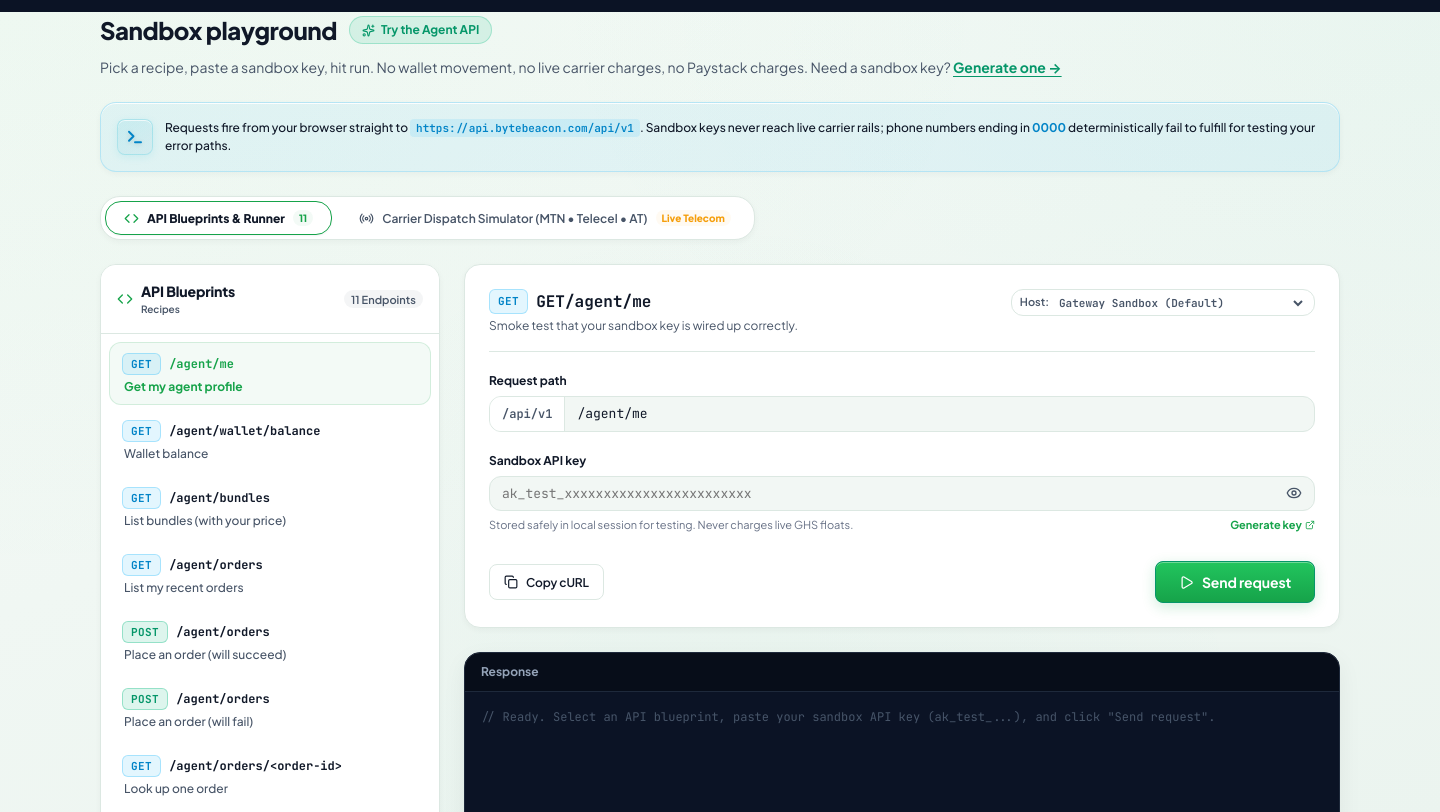
Scenario: AgentSandboxPage — Sandbox Playground Spec & Interactive Runner › 6. toggles sandbox API key visibility when eye button is clicked
Click the button titled "Show key": (1294,493) [1282,481,1306,505]
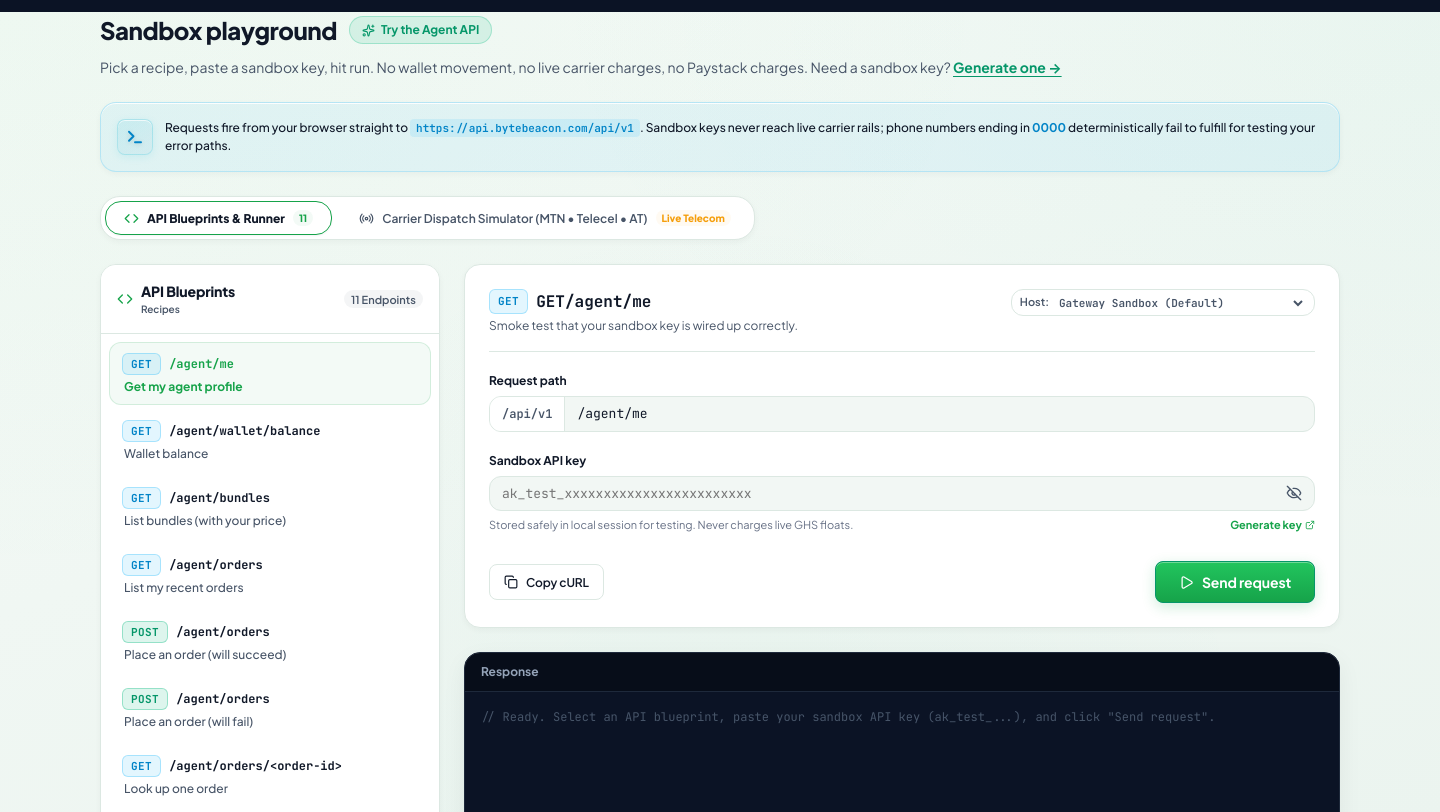
Click the button titled "Hide key": (1294,493) [1282,481,1306,505]
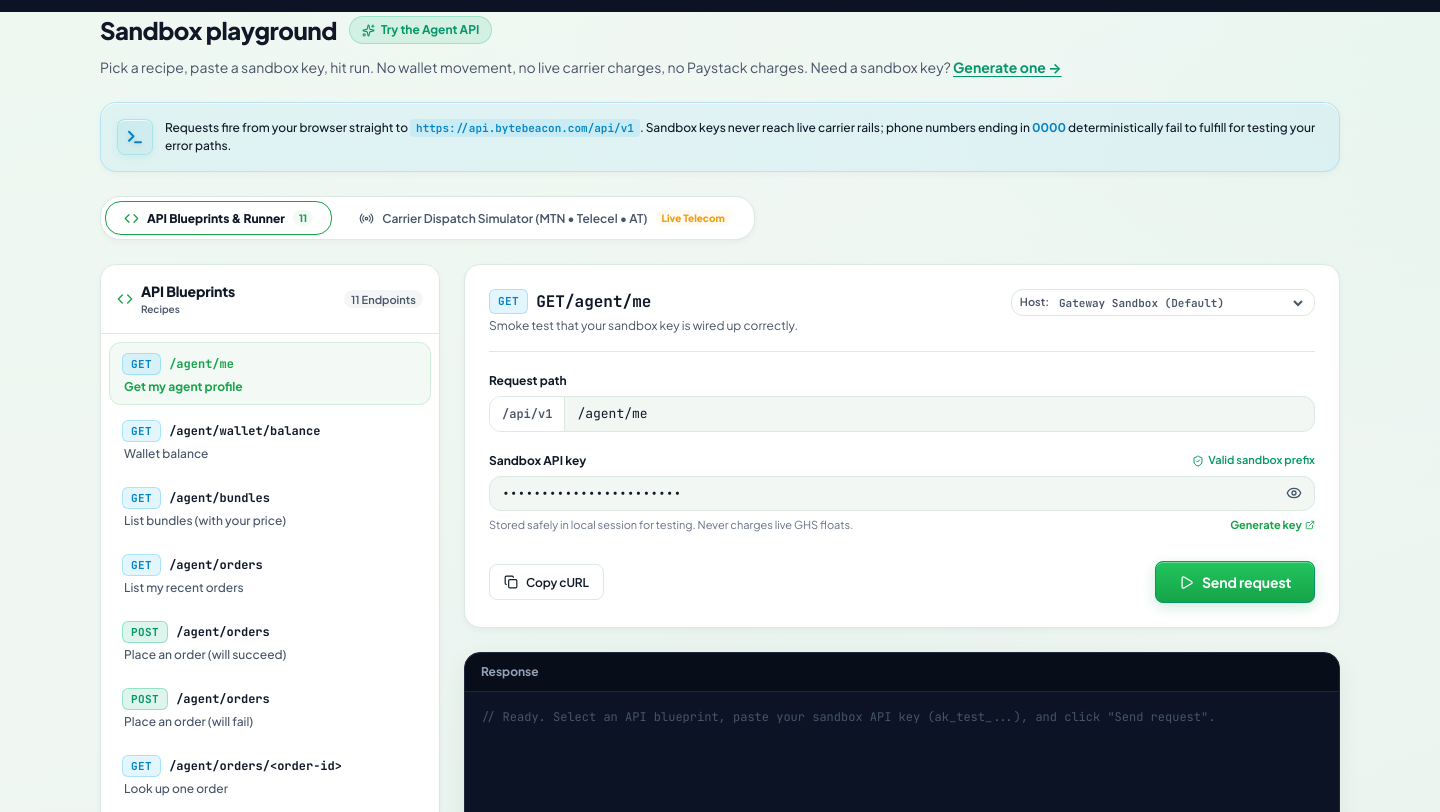
Check: the password field with placeholder "ak_test_xxxxxxxxxxxxxxxxxxxxxxxx" hides its text, box [490,477,1282,510]
